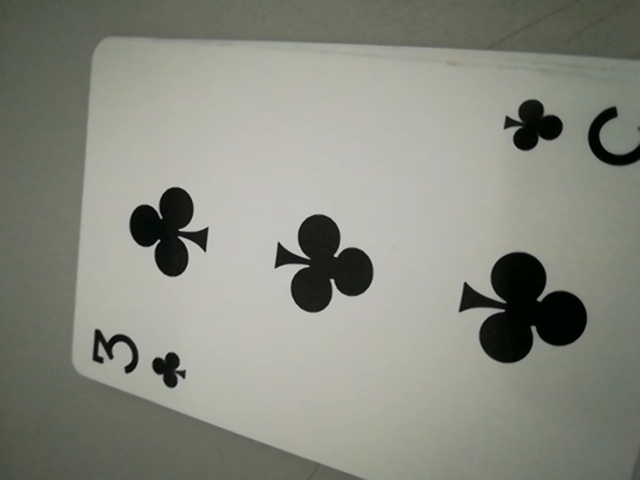mh 3: (85, 325, 190, 394)
